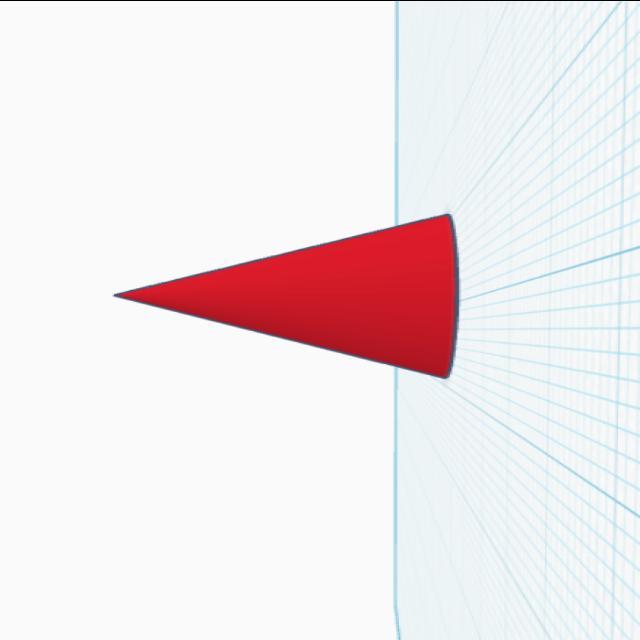cone: (108, 211, 472, 382)
